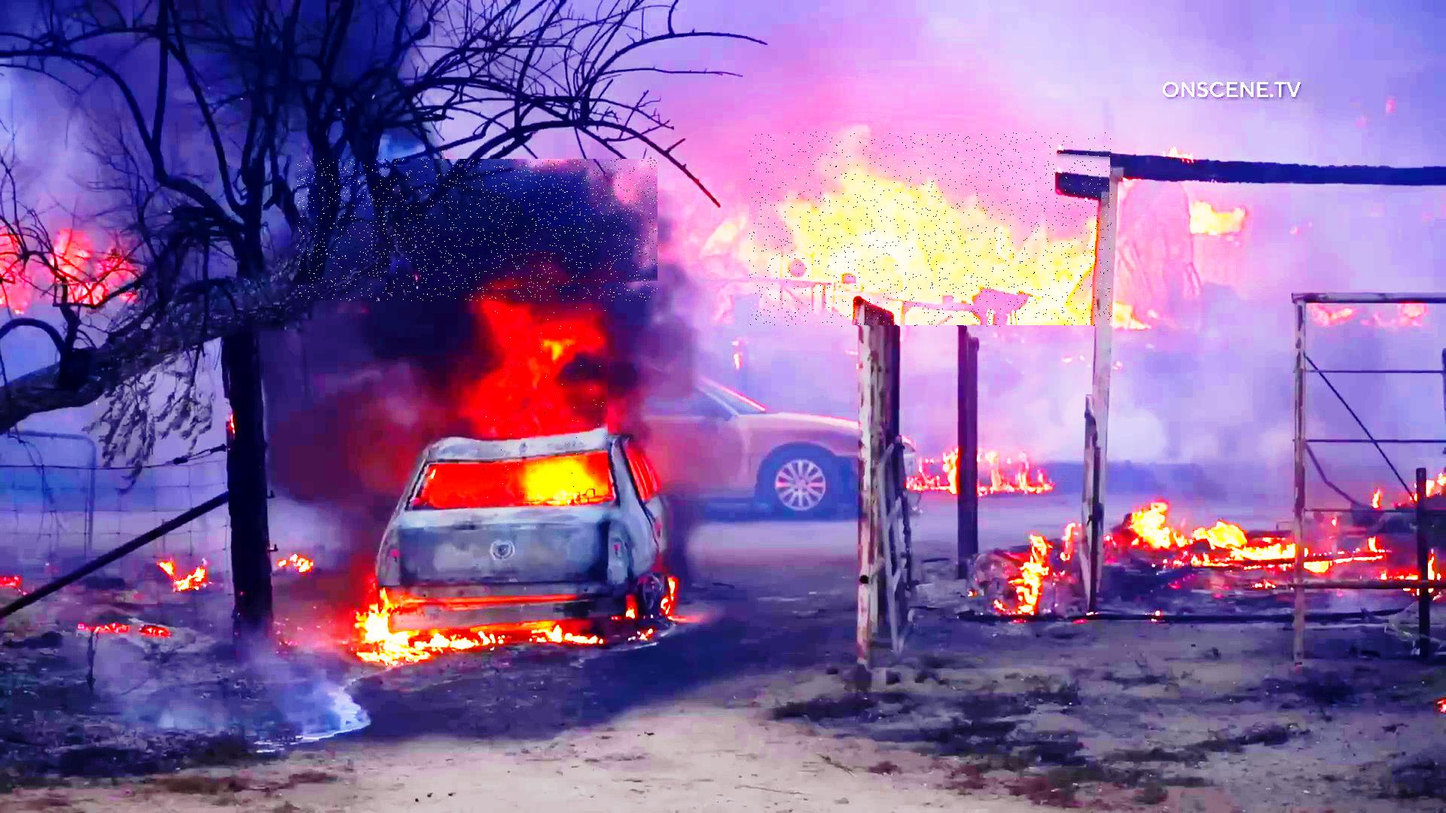fire: (750, 132, 1112, 327), (481, 304, 608, 505)
smoke: (298, 159, 658, 301)
